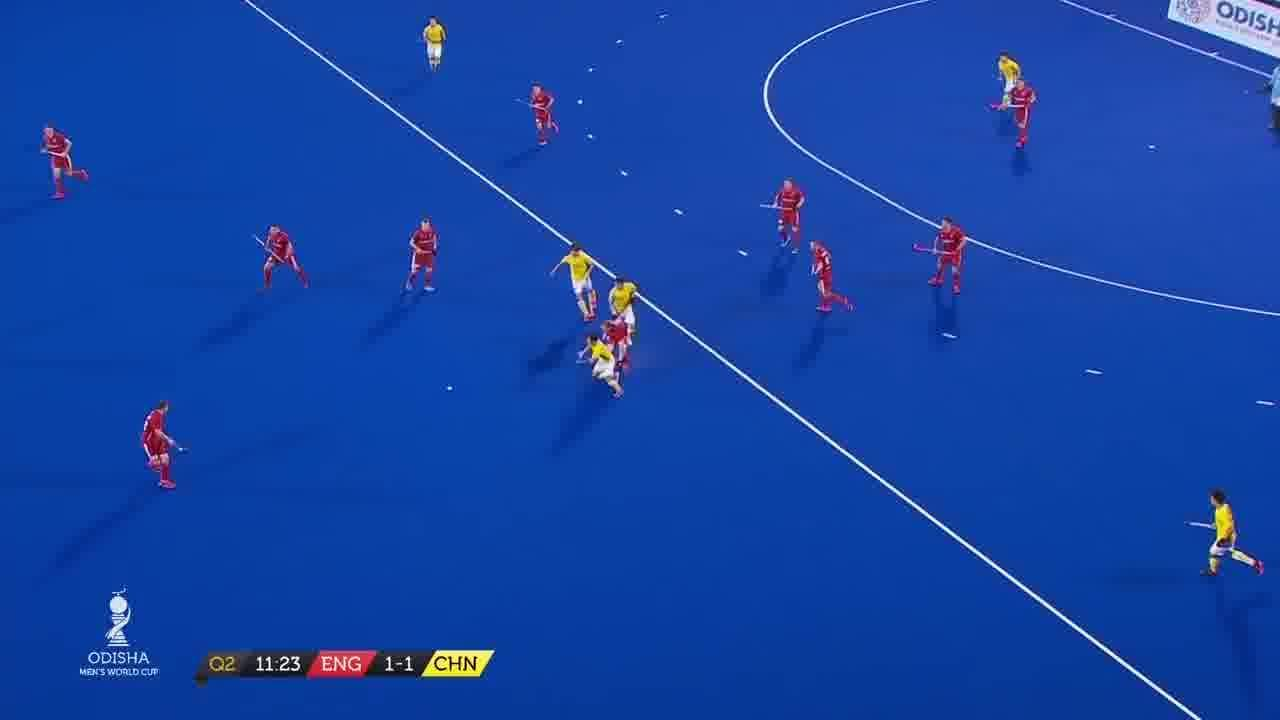ball: (444, 378, 466, 398)
